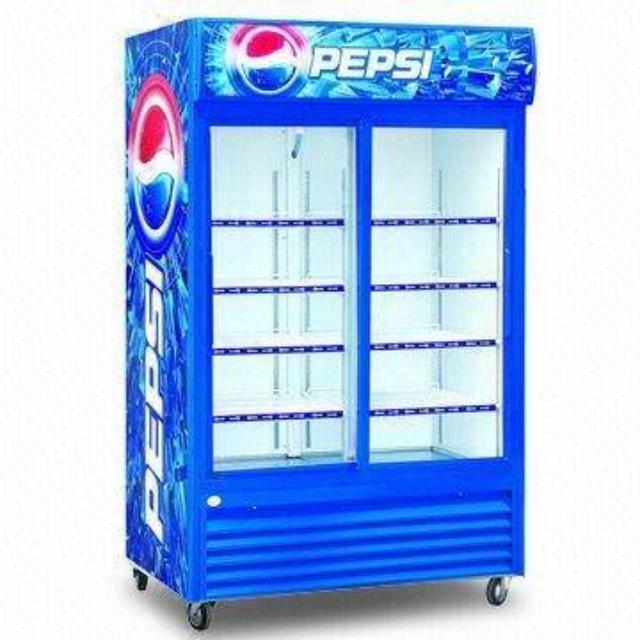Cooling-Display: (124, 8, 540, 640)
